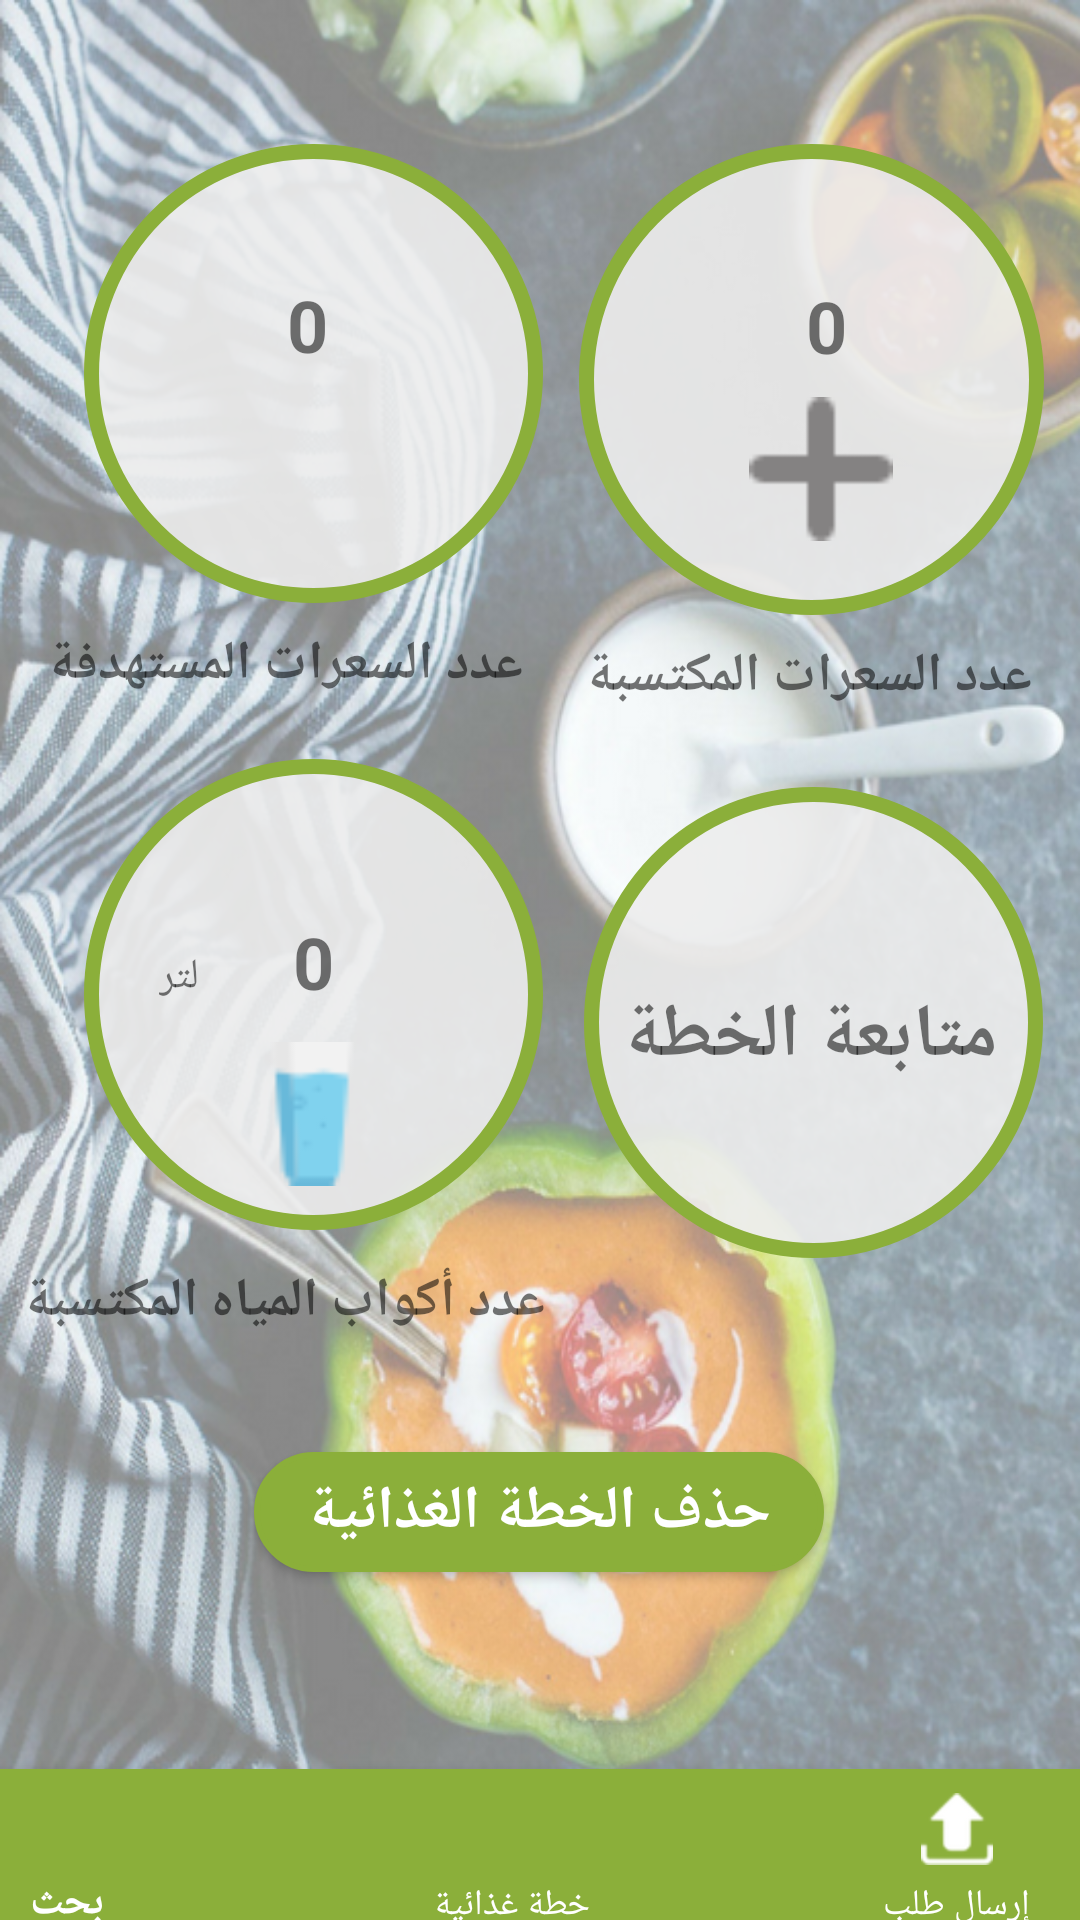

Icons on this 1080*1920 Android screen, each with the point to tap as (x=x, y=y):
add: (x=821, y=469)
water glass: (x=312, y=1128)
